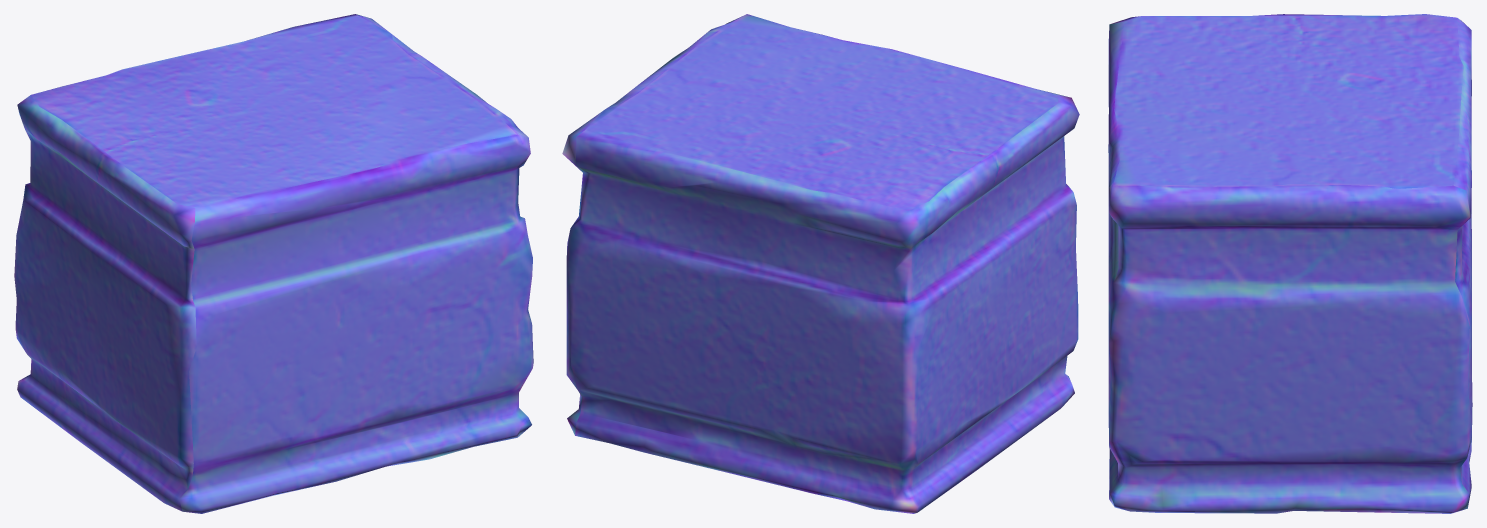
Rendered from pillar_bottom_01a.fbx.
3 views of the same model, side by side, from view 1: azimuth 30°, elevation 25°; view 2: azimuth 150°, elevation 25°; view 3: azimuth 270°, elevation 25° (orthographic). The views are drawn at different scales.
Visible parts, largest first — view 1: pillar_bottom_01a_LOD0; view 2: pillar_bottom_01a_LOD0; view 3: pillar_bottom_01a_LOD0.
Part boxes in pixels (box(x1,y1,x2,y2)): pillar_bottom_01a_LOD0: box(14, 14, 533, 513); pillar_bottom_01a_LOD0: box(562, 14, 1079, 513); pillar_bottom_01a_LOD0: box(1108, 14, 1472, 513).
Size of the model in its own units: 34.01 by 28.64 by 28.
1 material, 1 textured.
